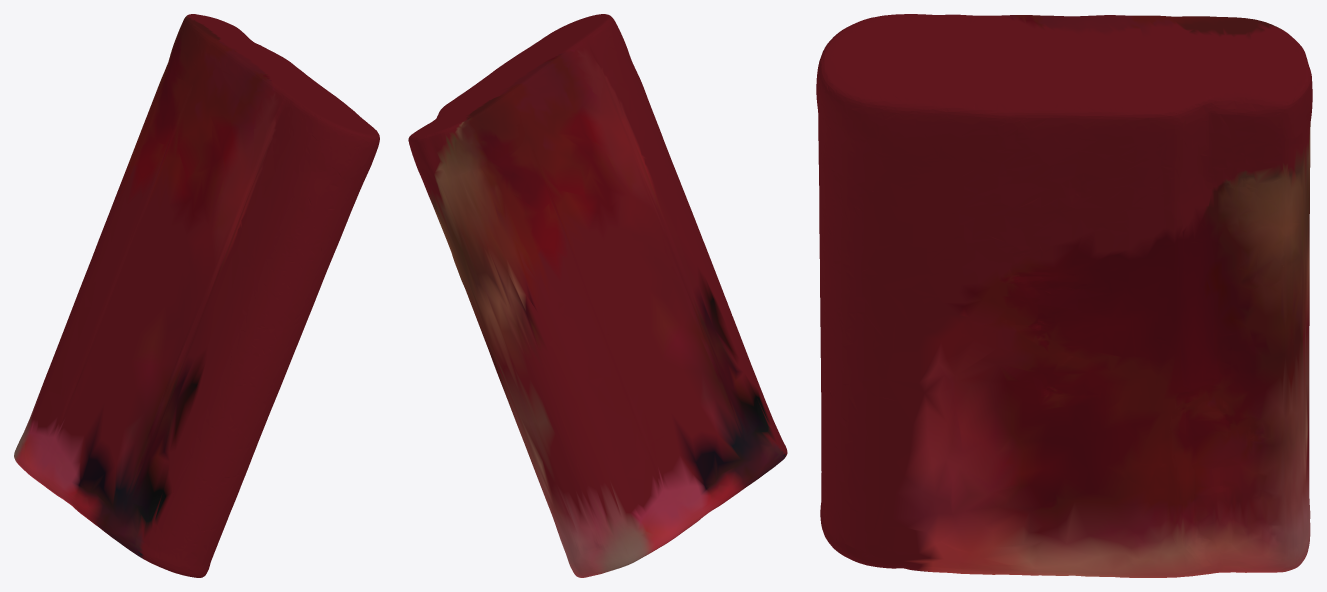
Rendered from component_003_red_box.glb.
The picture shows the model from 3 angles, left to right: view 1: azimuth 30°, elevation 25°; view 2: azimuth 150°, elevation 25°; view 3: azimuth 270°, elevation 25°; orthographic projection. The views are drawn at different scales.
Parts seen in each view (by area): view 1: 003_red_box_000_instance_000_photo_-01; view 2: 003_red_box_000_instance_000_photo_-01; view 3: 003_red_box_000_instance_000_photo_-01.
Boxes of the visible parts, bbox=[...] form: 003_red_box_000_instance_000_photo_-01: bbox=[14, 14, 379, 577]; 003_red_box_000_instance_000_photo_-01: bbox=[408, 14, 787, 577]; 003_red_box_000_instance_000_photo_-01: bbox=[816, 14, 1312, 577].
Size of the model in its own units: 0.0796 by 0.1325 by 0.0933.
